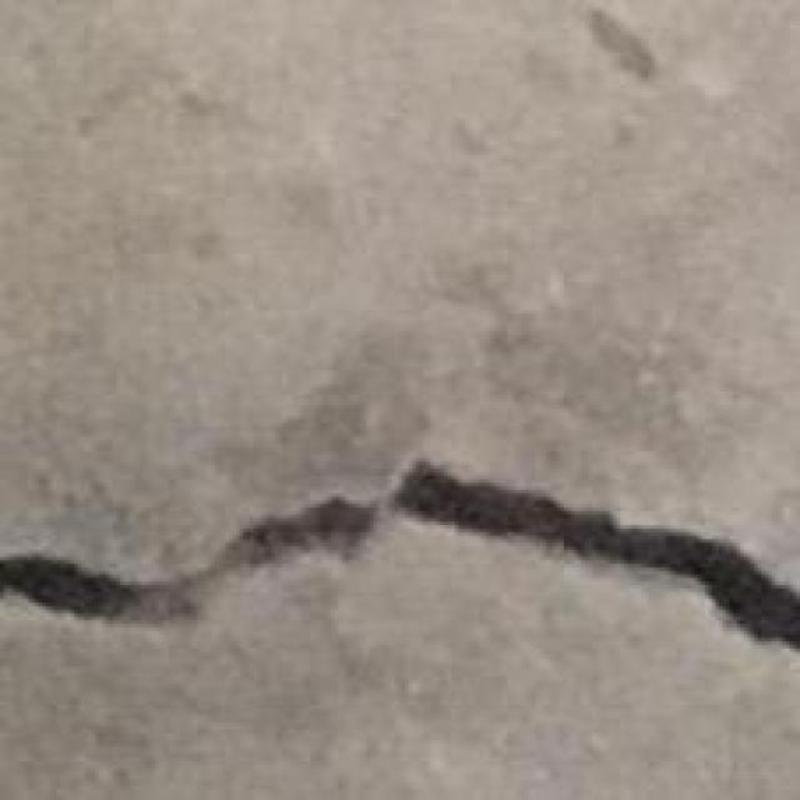pothole: (0, 460, 799, 650)
